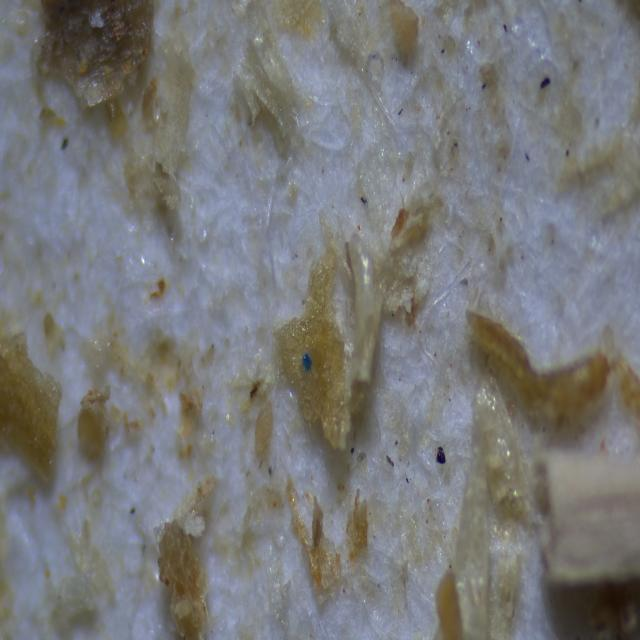microplastic: (302, 352, 313, 372)
